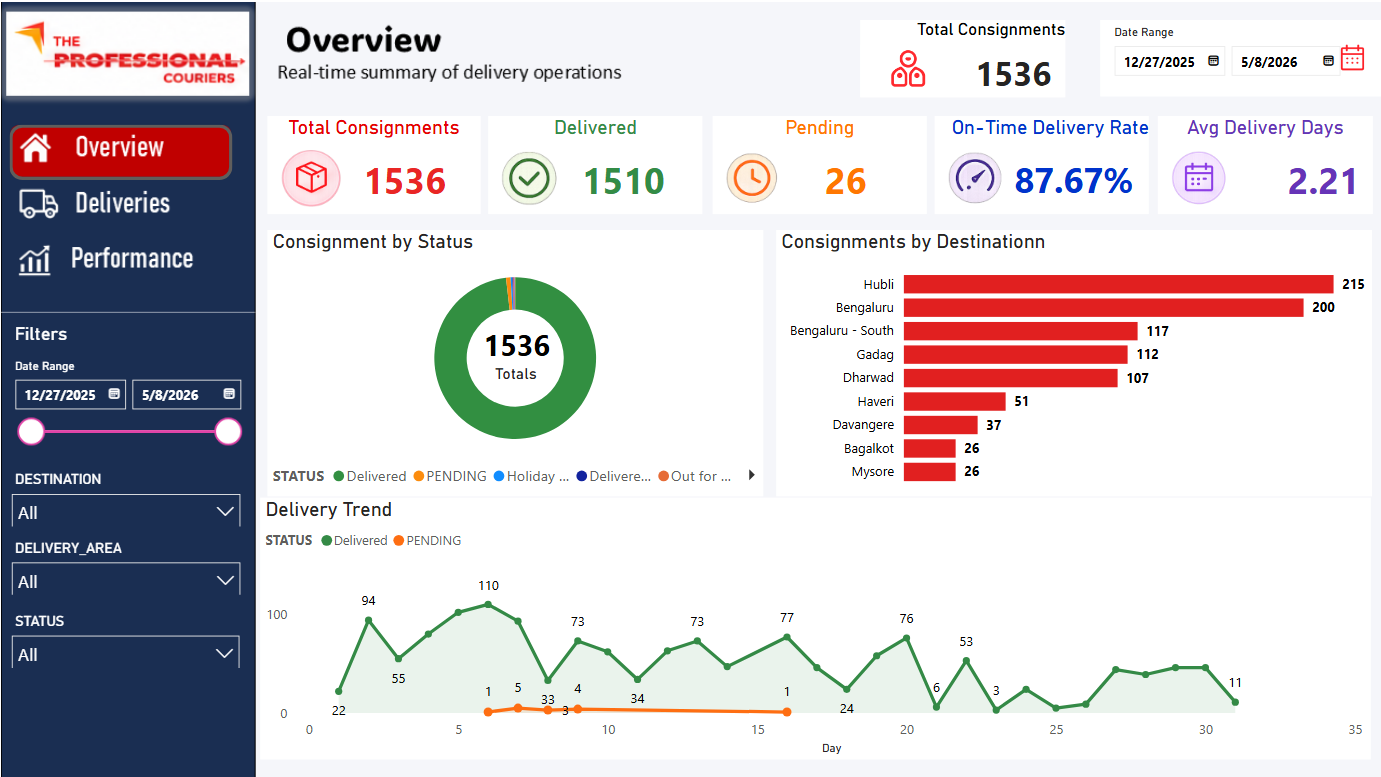

The dashboard page shown, as its layout file describes it:
{"tool":"powerbi","page":{"name":"OVERVIEW","canvas":[1280,720],"ordinal":0},"visuals":[{"type":"cardVisual","title":"Total Consignments","fields":{"Data":["Data.total Consignments"]},"box":[795.6,16.7,189.9,71.9],"z":0},{"type":"slicer","fields":{"Values":["Data.BOOKING_DATE"]},"box":[1017.8,16.4,261.6,71.2],"z":1000},{"type":"image","box":[1224.7,21.9,53.4,61.6],"z":2000},{"type":"cardVisual","title":"Total Consignments","fields":{"Data":["Data.total Consignments"]},"box":[246.7,105.3,197.3,90.7],"z":3000},{"type":"cardVisual","title":"Delivered","fields":{"Data":["Data.total Consignments"]},"box":[450.8,105.4,198.5,90.8],"z":4000},{"type":"cardVisual","title":"Pending","fields":{"Data":["Data.total Consignments"]},"box":[658.5,105.4,198.5,90.8],"z":5000},{"type":"cardVisual","title":"On-Time Delivery Rate","fields":{"Data":["Data.On_Time_Delivery_Rate"]},"box":[864.6,105.4,198.5,90.8],"z":6000},{"type":"cardVisual","title":"Avg Delivery Days","fields":{"Data":["Data.average"]},"box":[1071.5,105.4,199.2,90.8],"z":7000},{"type":"donutChart","title":"Consignment by Status","fields":{"Y":["CountNonNull(Data.CONSIGNMENT_No)"],"Category":["Data.STATUS"]},"box":[246.6,211,458.9,246.6],"z":8000},{"type":"cardVisual","title":"Total Consignments","fields":{"Data":["Data.total Consignments"]},"box":[415,274,124,78],"z":9000},{"type":"textbox","box":[432,330,89,30],"z":10000},{"type":"clusteredBarChart","title":"Consignments by Destinationn","fields":{"Y":["CountNonNull(Data.CONSIGNMENT_No)"],"Category":["Data.DESTINATION"]},"box":[717.8,211,552.1,246.6],"z":11000},{"type":"lineChart","title":"Delivery Trend","fields":{"Category":["Data.BOOKING_DATE.Variation.Date Hierarchy.Day"],"Y":["CountNonNull(Data.STATUS)"],"Series":["Data.STATUS"]},"box":[240,458.6,1028.6,242.9],"z":12000},{"type":"actionButton","box":[7.9,112.9,206.4,51.4],"z":13000},{"type":"actionButton","box":[7.1,168.6,206.4,42.1],"z":14000},{"type":"actionButton","box":[12.5,219.4,206.9,41.9],"z":15000},{"type":"slicer","fields":{"Values":["Data.BOOKING_DATE"]},"box":[0,325,232,103],"z":16000},{"type":"textbox","box":[8,292,86,41],"z":17000},{"type":"slicer","fields":{"Values":["Data.DESTINATION"]},"box":[0,428.3,231.7,56.7],"z":18000},{"type":"slicer","fields":{"Values":["Data.DELIVERY_AREA"]},"box":[0,491.8,231.8,56.4],"z":19000},{"type":"slicer","fields":{"Values":["Data.STATUS"]},"box":[0,560,230.9,56.4],"z":20000}]}

Visuals, with their boxes in screenshot pixels (x1, y1, x2, y2), scaled from the page's 1280x720 canvas onto the 1381x777 screenshot:
"Total Consignments" cardVisual: crop(858, 18, 1063, 96)
slicer - Data.BOOKING_DATE: crop(1098, 18, 1380, 95)
image: crop(1321, 24, 1379, 90)
"Total Consignments" cardVisual: crop(266, 114, 479, 212)
"Delivered" cardVisual: crop(486, 114, 701, 212)
"Pending" cardVisual: crop(710, 114, 925, 212)
"On-Time Delivery Rate" cardVisual: crop(933, 114, 1147, 212)
"Avg Delivery Days" cardVisual: crop(1156, 114, 1371, 212)
"Consignment by Status" donutChart: crop(266, 228, 761, 494)
"Total Consignments" cardVisual: crop(448, 296, 582, 380)
textbox: crop(466, 356, 562, 388)
"Consignments by Destinationn" clusteredBarChart: crop(774, 228, 1370, 494)
"Delivery Trend" lineChart: crop(259, 495, 1369, 757)
actionButton: crop(9, 122, 231, 177)
actionButton: crop(8, 182, 230, 227)
actionButton: crop(13, 237, 237, 282)
slicer - Data.BOOKING_DATE: crop(0, 351, 250, 462)
textbox: crop(9, 315, 101, 359)
slicer - Data.DESTINATION: crop(0, 462, 250, 523)
slicer - Data.DELIVERY_AREA: crop(0, 531, 250, 592)
slicer - Data.STATUS: crop(0, 604, 249, 665)
